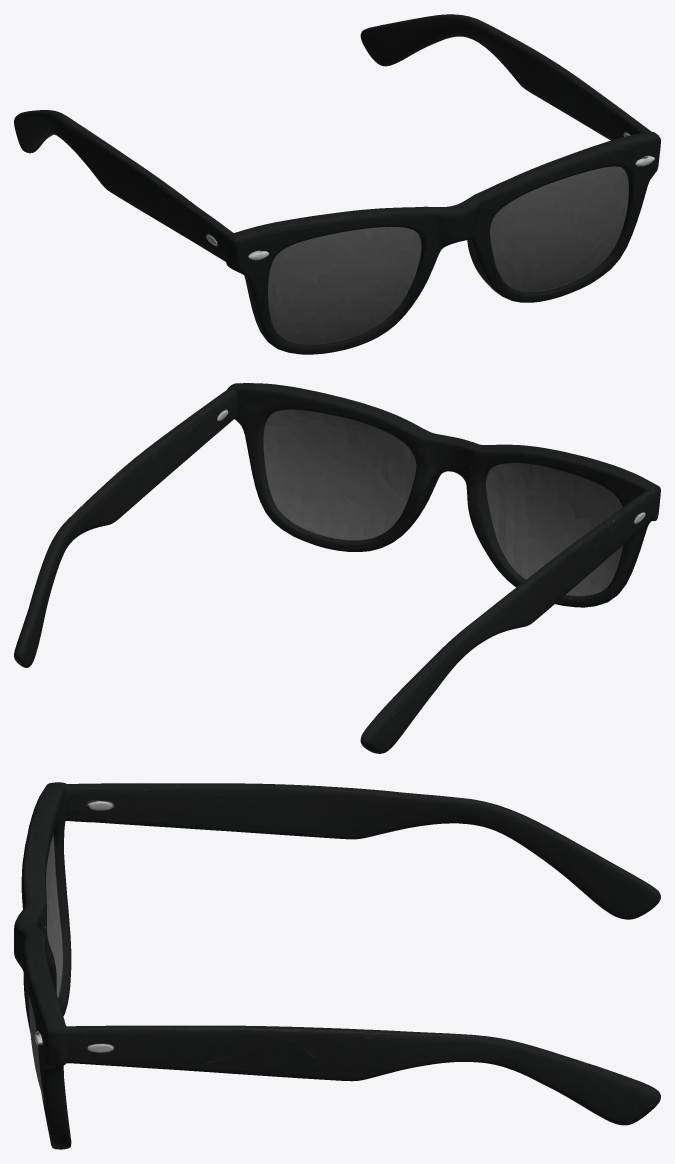
Rendered from wayfarer-black.glb.
3 renders of one model, top to bottom at view 1: azimuth 30°, elevation 25°; view 2: azimuth 150°, elevation 25°; view 3: azimuth 270°, elevation 25°, orthographic. The views are drawn at different scales.
Visible parts, largest first — view 1: Mesh_0; view 2: Mesh_0; view 3: Mesh_0.
Part boxes in pixels (left/top/right/bottom): Mesh_0: left=14, top=14, right=660, bottom=354; Mesh_0: left=14, top=383, right=660, bottom=753; Mesh_0: left=14, top=782, right=660, bottom=1149.
Bounding box in the file's own units: 14.5 × 4.61 × 15.88.
1 material, 1 textured.
